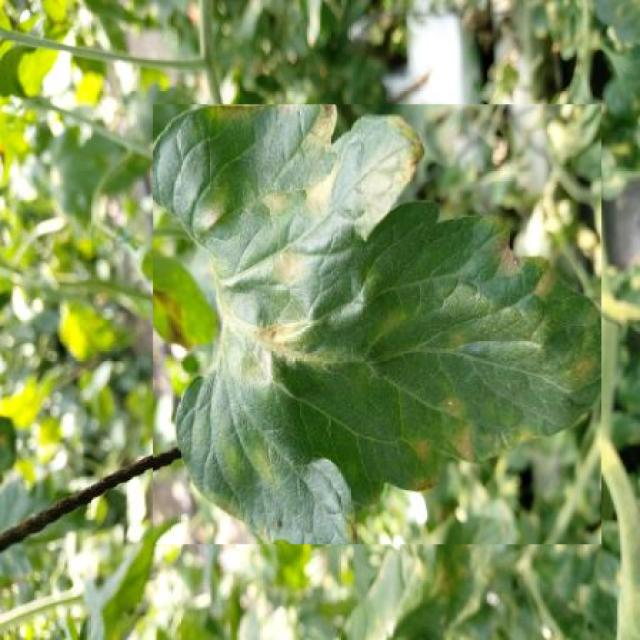Leaf Mold: (154, 105, 602, 544)
